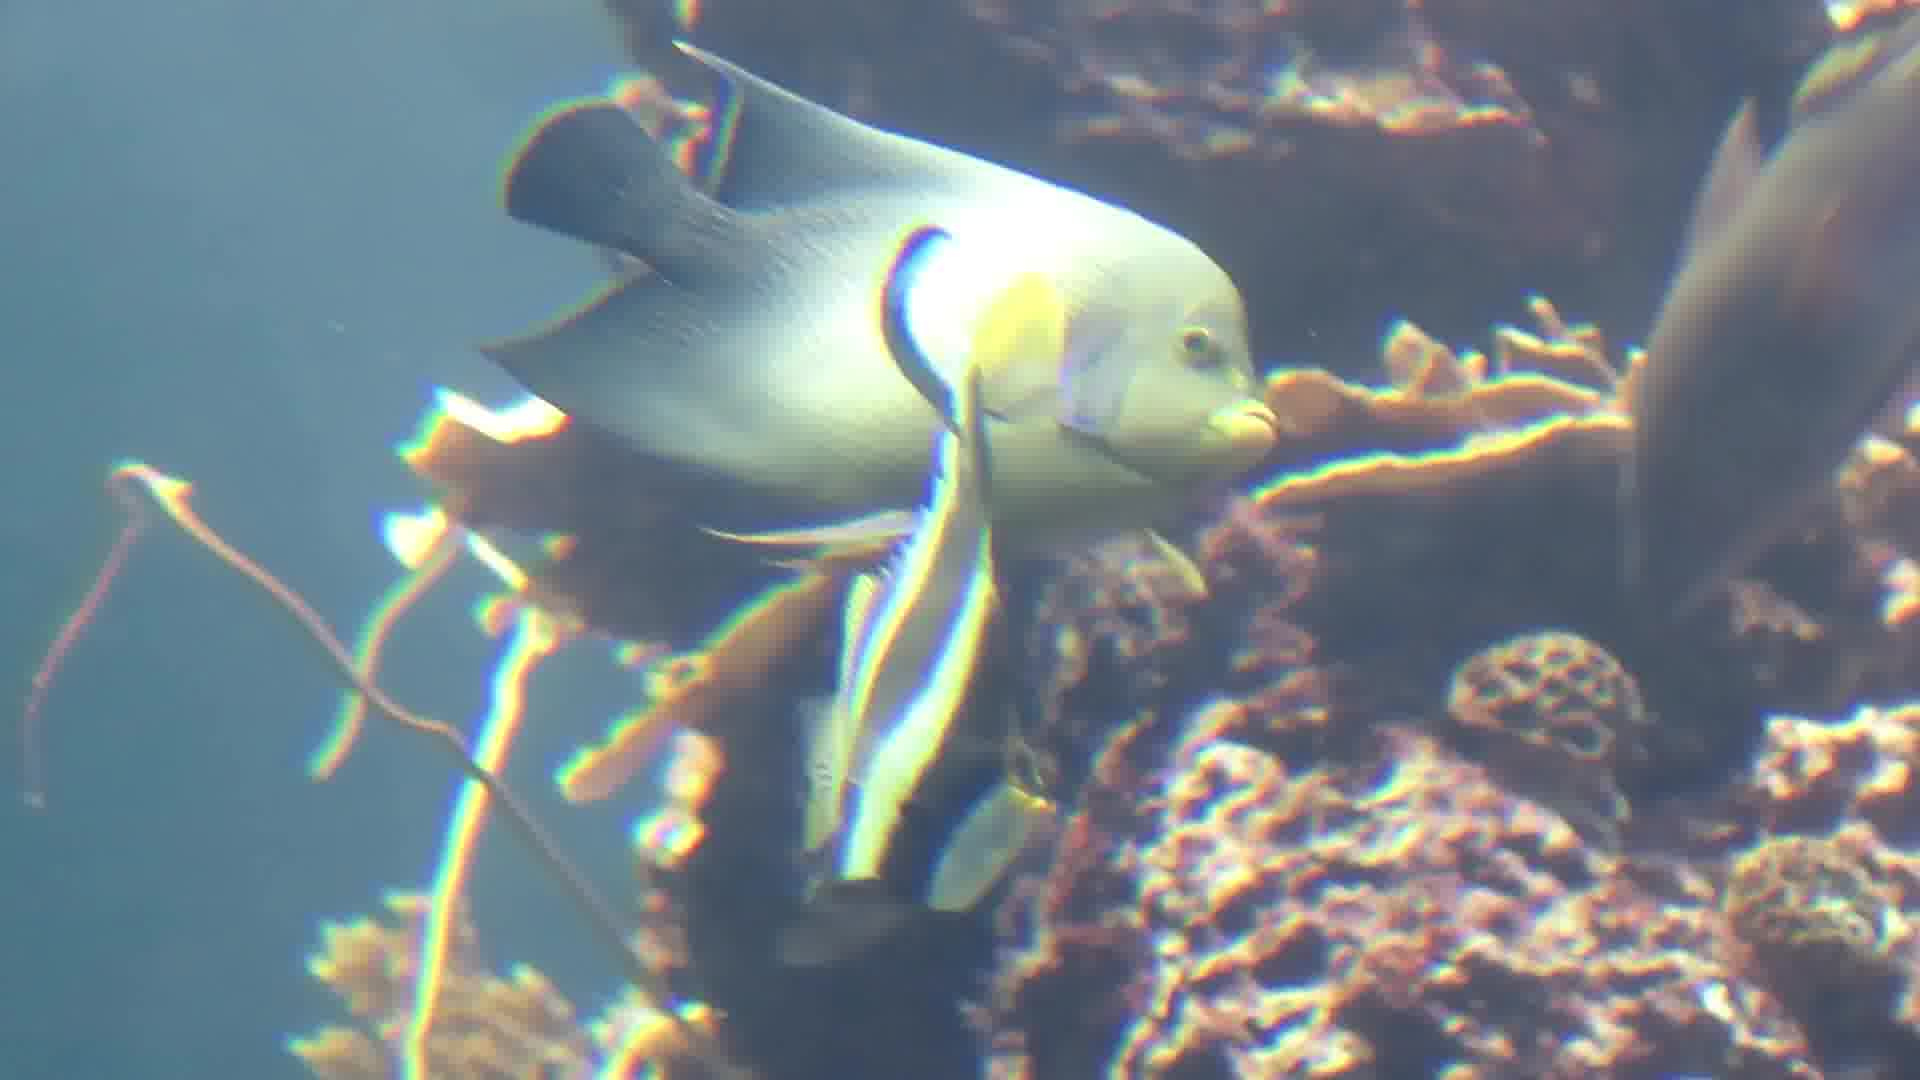Heniochus chrysostomus: (707, 324, 1130, 939)
